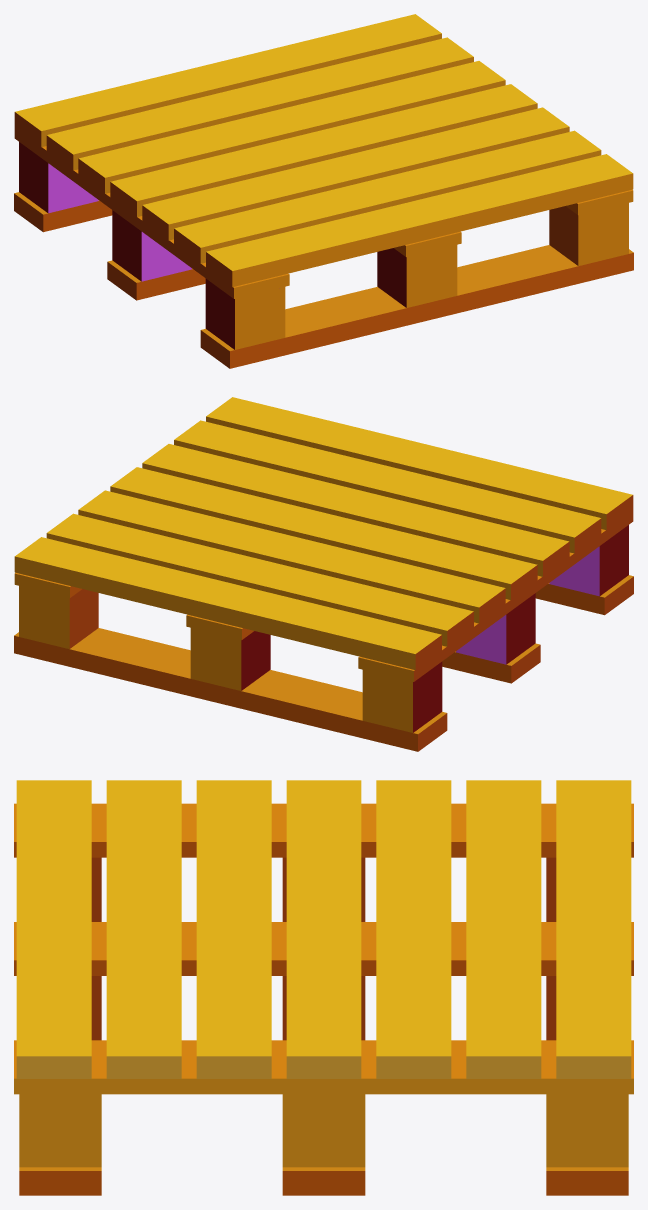
Rendered from 3d_wooden_pallet.fbx.
3 renders of one model, top to bottom at view 1: azimuth 30°, elevation 25°; view 2: azimuth 150°, elevation 25°; view 3: azimuth 270°, elevation 25°, orthographic. The views are drawn at different scales.
Parts seen in each view (by area): view 1: GEO_Wooden_Pallet; view 2: GEO_Wooden_Pallet; view 3: GEO_Wooden_Pallet.
Part boxes in pixels (box(x1,y1,x2,y2)): GEO_Wooden_Pallet: box(14, 14, 633, 368); GEO_Wooden_Pallet: box(14, 397, 633, 751); GEO_Wooden_Pallet: box(14, 780, 633, 1195).
Bounding box in the file's own units: 1.2 × 1.13 × 0.278.
